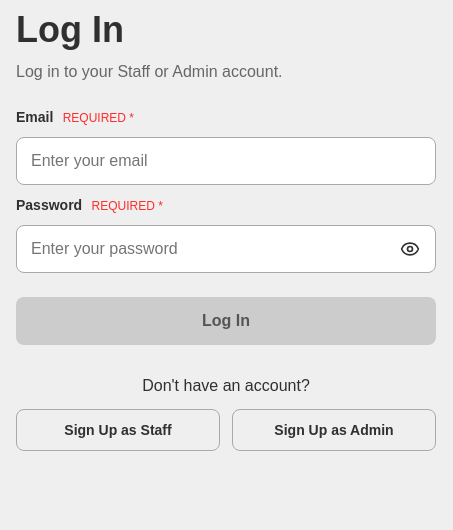
Login › shows an error when login credentials are invalid
In the field labelled "Email": (226, 161) x1=16 y1=137 x2=436 y2=185, type "staff.test@example.com"
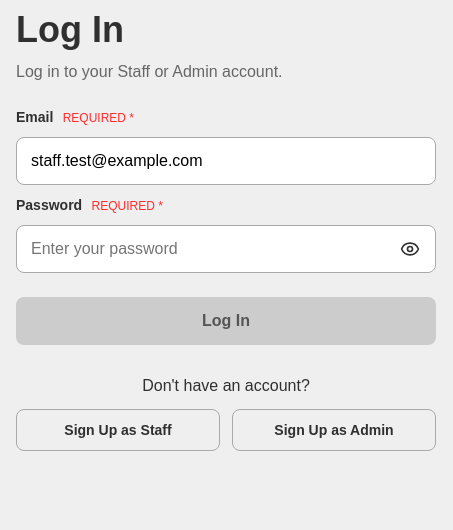
In the password field labelled "Password": (226, 249) x1=16 y1=225 x2=436 y2=273, type "WrongPassword123!"
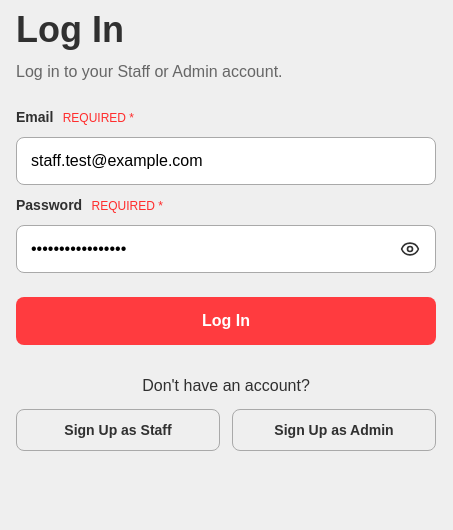
Click the button "Log In": (226, 321) x1=16 y1=297 x2=436 y2=345
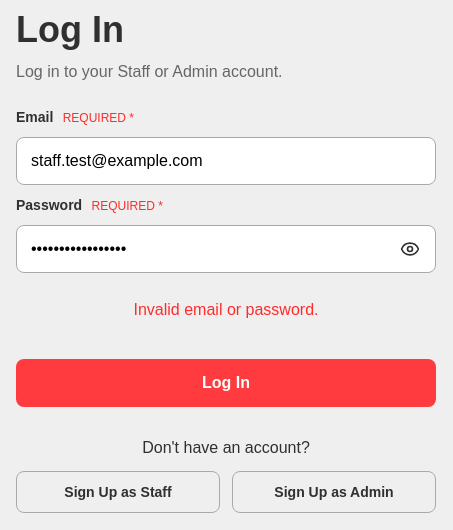
Expected: the message reads "Invalid email or password.", x1=134 y1=301 x2=318 y2=318
